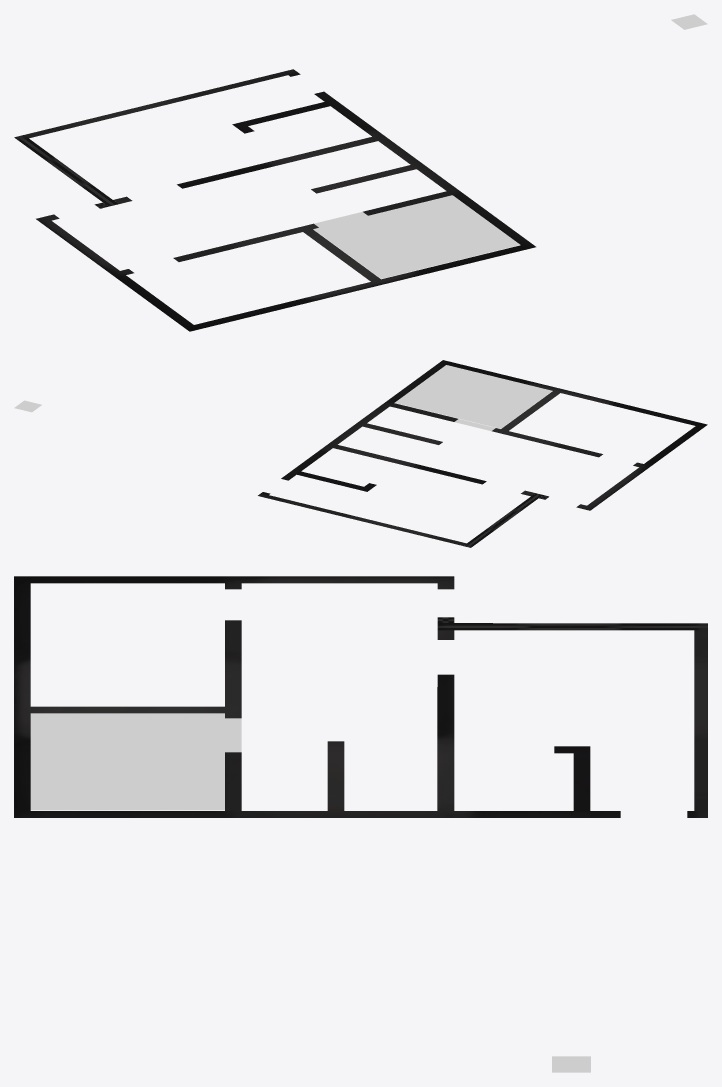
The model's file is cottage.FBX.
3 views of the same model, one above another, from view 1: azimuth 30°, elevation 25°; view 2: azimuth 150°, elevation 25°; view 3: azimuth 270°, elevation 25° (orthographic). The views are drawn at different scales.
Parts seen in each view (by area): view 1: walls, cottage_study_floor_ambient; view 2: walls, cottage_study_floor_ambient; view 3: walls, cottage_study_floor_ambient.
Part boxes in pixels (x1=…): walls: x1=14, y1=69, x2=535, y2=331; cottage_study_floor_ambient: x1=313, y1=195, x2=520, y2=278; walls: x1=258, y1=360, x2=707, y2=547; cottage_study_floor_ambient: x1=394, y1=365, x2=552, y2=431; walls: x1=14, y1=576, x2=707, y2=817; cottage_study_floor_ambient: x1=30, y1=713, x2=241, y2=810.
Bounding box in the file's own units: 2098 × 9 × 1250.
Materials: 1 (1 with a texture image).
